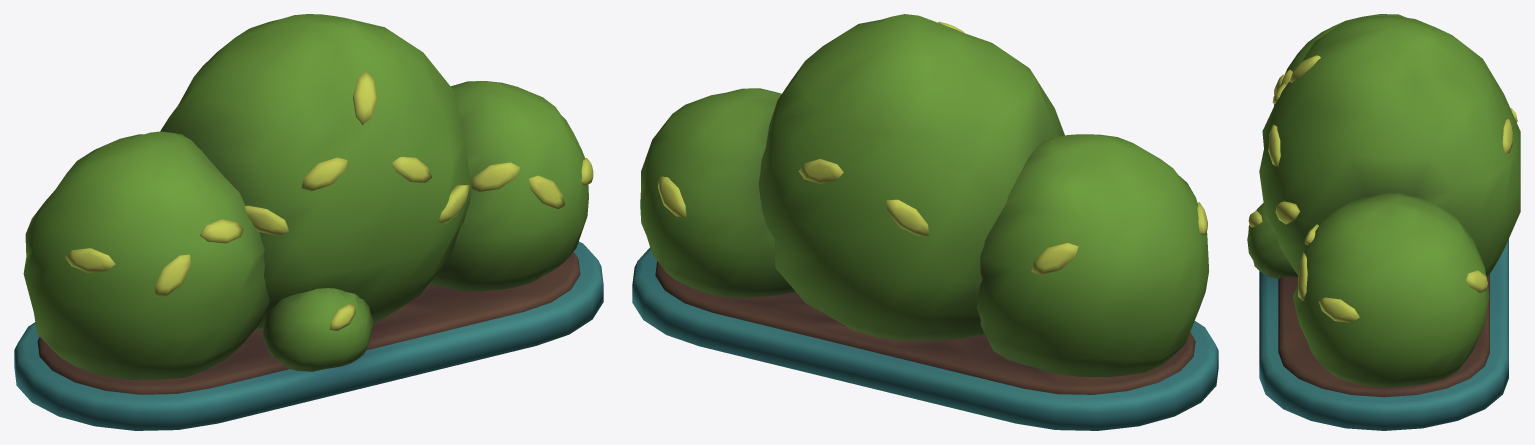
File: rounded-hedge.glb
3 views of the same model, side by side, from view 1: azimuth 30°, elevation 25°; view 2: azimuth 150°, elevation 25°; view 3: azimuth 270°, elevation 25° (orthographic). The views are drawn at different scales.
Parts seen in each view (by area): view 1: rounded-hedge; view 2: rounded-hedge; view 3: rounded-hedge.
Part boxes in pixels (bbox=[...]): rounded-hedge: bbox=[14, 14, 603, 430]; rounded-hedge: bbox=[632, 14, 1218, 430]; rounded-hedge: bbox=[1247, 14, 1520, 430].
Size of the model in its own units: 2.16 by 1.15 by 1.01.
